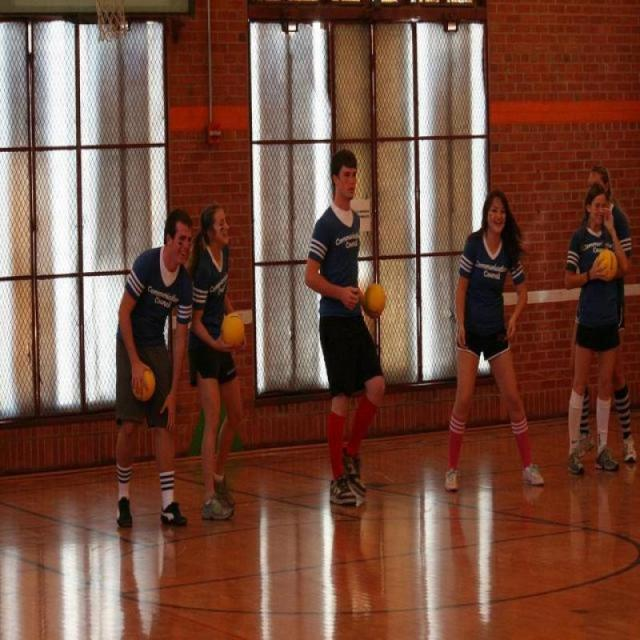volleyball: (364, 278, 387, 320), (130, 369, 156, 404), (222, 313, 246, 350), (596, 244, 620, 281)
